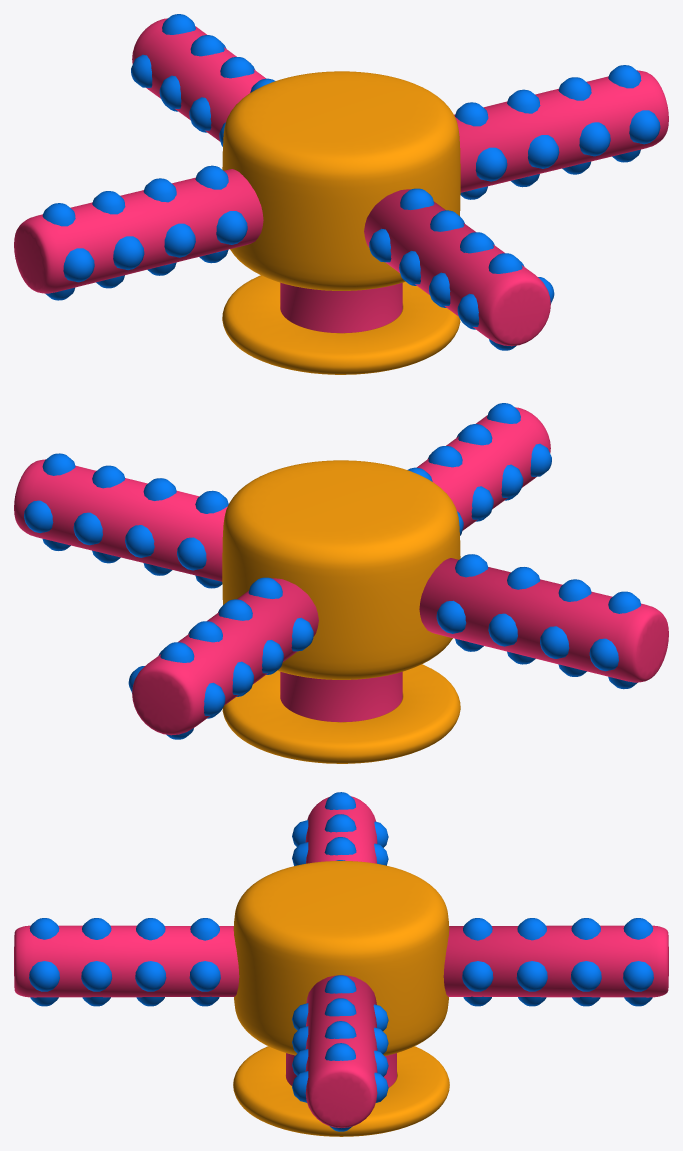
3 renders of one model, top to bottom at view 1: azimuth 30°, elevation 25°; view 2: azimuth 150°, elevation 25°; view 3: azimuth 270°, elevation 25°, orthographic. The views are drawn at different scales.
Parts seen in each view (by area): view 1: Merkez.011, Kol, Kol.010, Kol.009, Kol.011; view 2: Merkez.011, Kol, Kol.010, Kol.011, Kol.009; view 3: Merkez.011, Kol.009, Kol.011, Kol.010, Kol.
Part boxes in pixels (bbox=[...]): Merkez.011: bbox=[222, 71, 460, 374]; Kol: bbox=[14, 165, 263, 300]; Kol.010: bbox=[454, 65, 668, 199]; Kol.009: bbox=[364, 188, 554, 350]; Kol.011: bbox=[131, 14, 275, 146]; Merkez.011: bbox=[222, 460, 460, 763]; Kol: bbox=[419, 554, 668, 689]; Kol.010: bbox=[14, 453, 228, 588]; Kol.011: bbox=[128, 577, 318, 739]; Kol.009: bbox=[407, 403, 551, 535]; Merkez.011: bbox=[233, 861, 449, 1136]; Kol.009: bbox=[14, 918, 239, 1006]; Kol.011: bbox=[443, 918, 668, 1006]; Kol.010: bbox=[292, 975, 388, 1131]; Kol: bbox=[292, 792, 388, 865].
Bounding box in the file's own units: 120 × 39.55 × 120.
